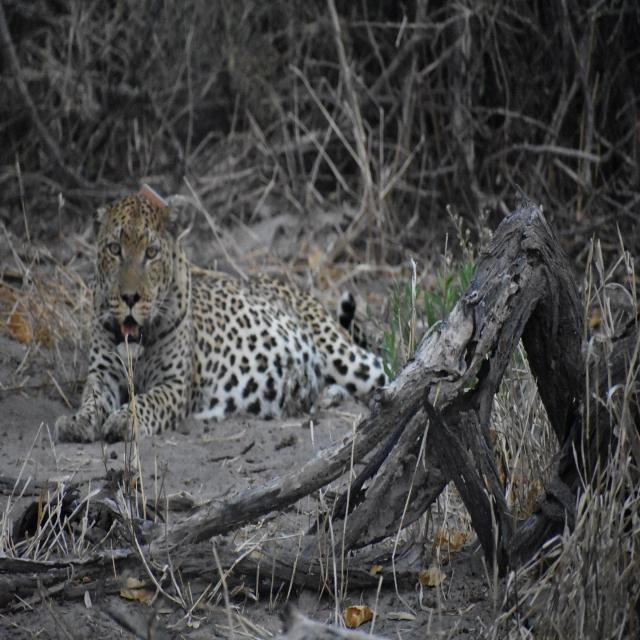Leopard: (49, 193, 399, 448)
